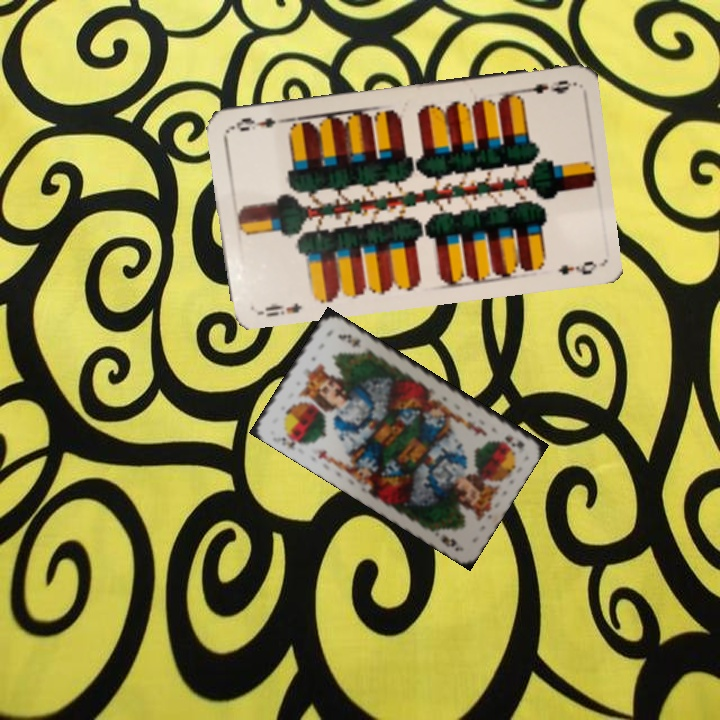E9: (516, 76, 574, 101), (253, 298, 305, 319)
SK: (501, 431, 527, 454), (272, 433, 298, 451)
